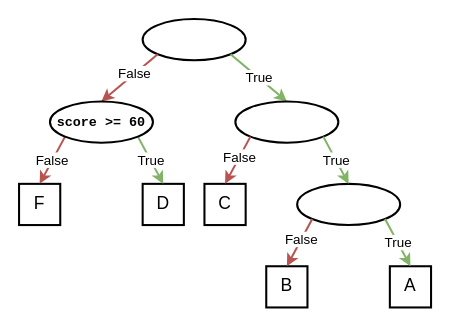
The diagram is 449 pixels wide and 325 high, and some of its shapes have lost their labels. Here are the shapes that lost their labels. From the top down, the centre of each, then its label:
At point 193,39: "score >= 70".
At point 286,121: "score >= 80".
At point 348,204: "score >= 90".
